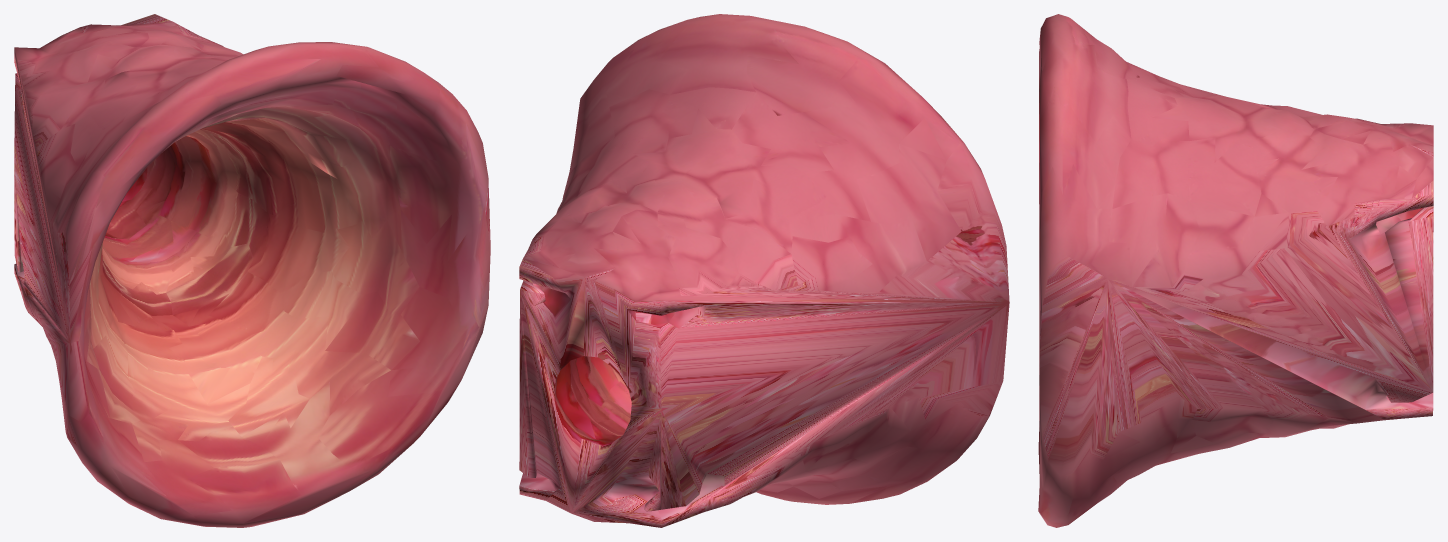
File: Throat1.fbx
3 views of the same model, side by side, from view 1: azimuth 30°, elevation 25°; view 2: azimuth 150°, elevation 25°; view 3: azimuth 270°, elevation 25° (orthographic). The views are drawn at different scales.
Parts seen in each view (by area): view 1: Mesh_0; view 2: Mesh_0; view 3: Mesh_0.
Part boxes in pixels (x1=…): Mesh_0: x1=14, y1=14, x2=490, y2=527; Mesh_0: x1=519, y1=14, x2=1009, y2=527; Mesh_0: x1=1038, y1=14, x2=1433, y2=527.
Size of the model in its own units: 1.64 by 1.75 by 1.36.
